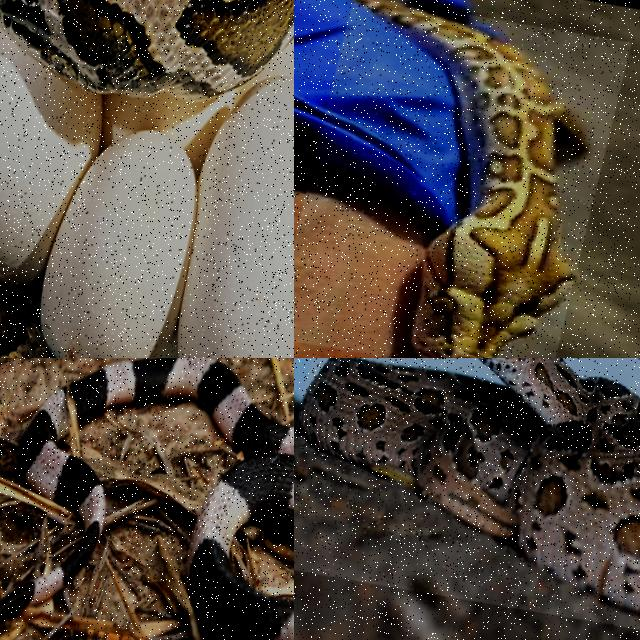Bungarus candidus: (70, 358, 293, 639)
Daboia siamensis: (300, 358, 639, 612)
Python bivittatus: (356, 0, 584, 357), (0, 0, 293, 97)
